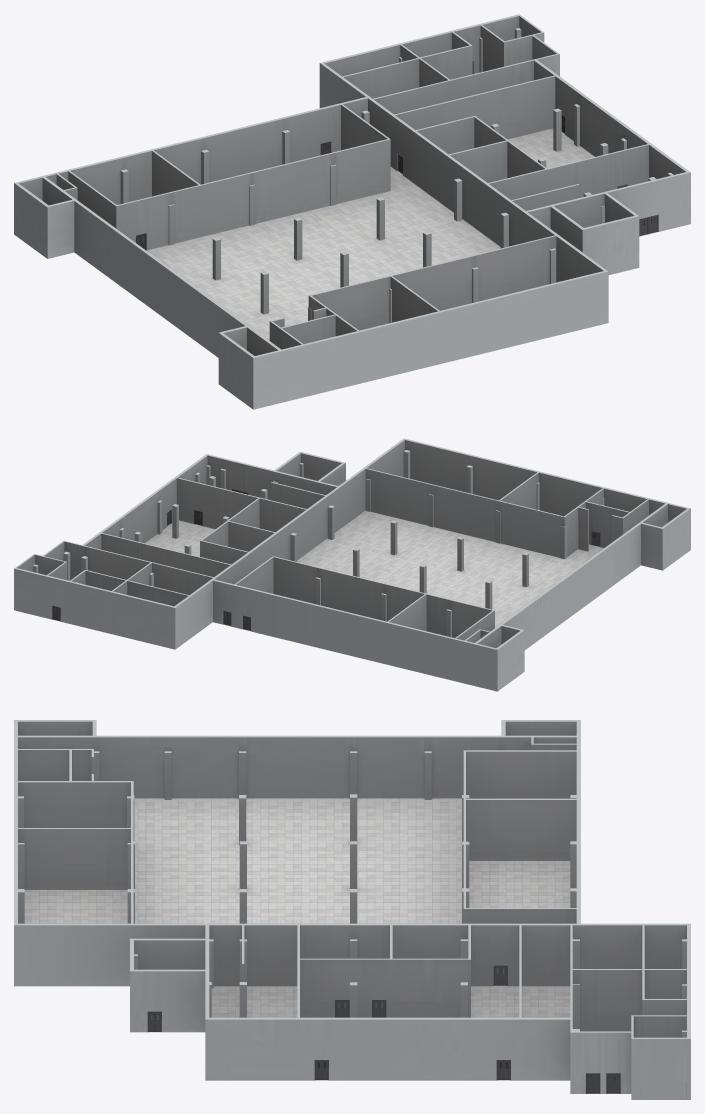
Rendered from LXWZ_1-1F.glb.
3 renders of one model, top to bottom at view 1: azimuth 30°, elevation 25°; view 2: azimuth 150°, elevation 25°; view 3: azimuth 270°, elevation 25°, orthographic. The views are drawn at different scales.
Size of the model in its own units: 62.04 by 5.54 by 55.69.
Materials: 1 (1 with a texture image).
